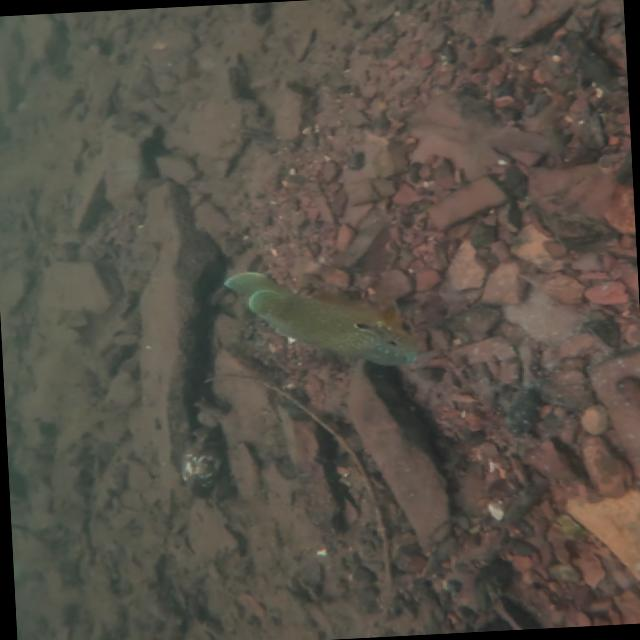Gunes Levregi: (222, 255, 429, 380)
